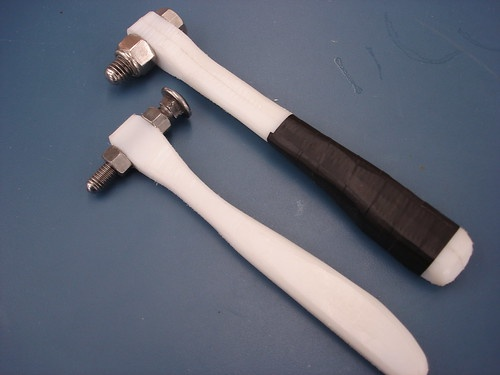hammer: (113, 2, 476, 284), (84, 91, 430, 375)
